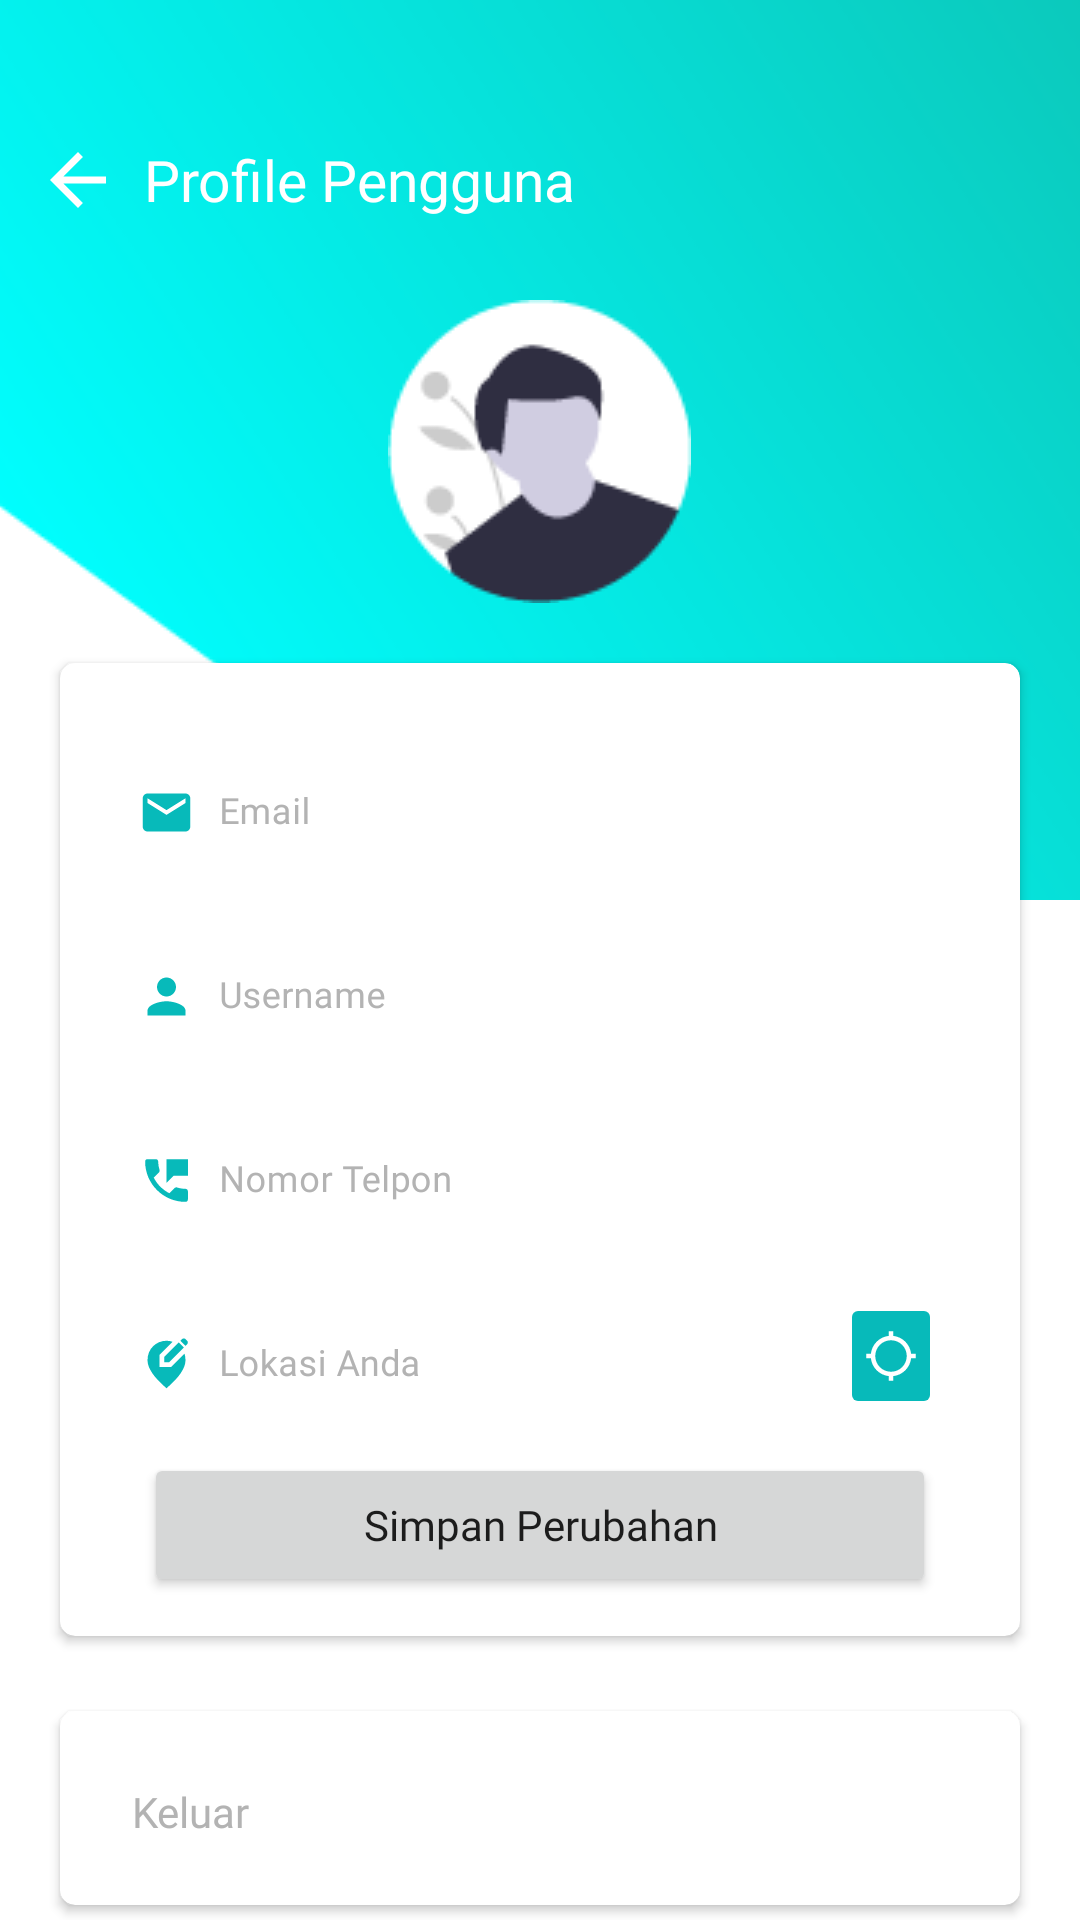

Locate icon controls on the screen. Image size 1080×1920, boxes as [x1,y1,x2,y2].
arrow back: [50,152,106,208]
location searching: [852,1311,930,1401]
